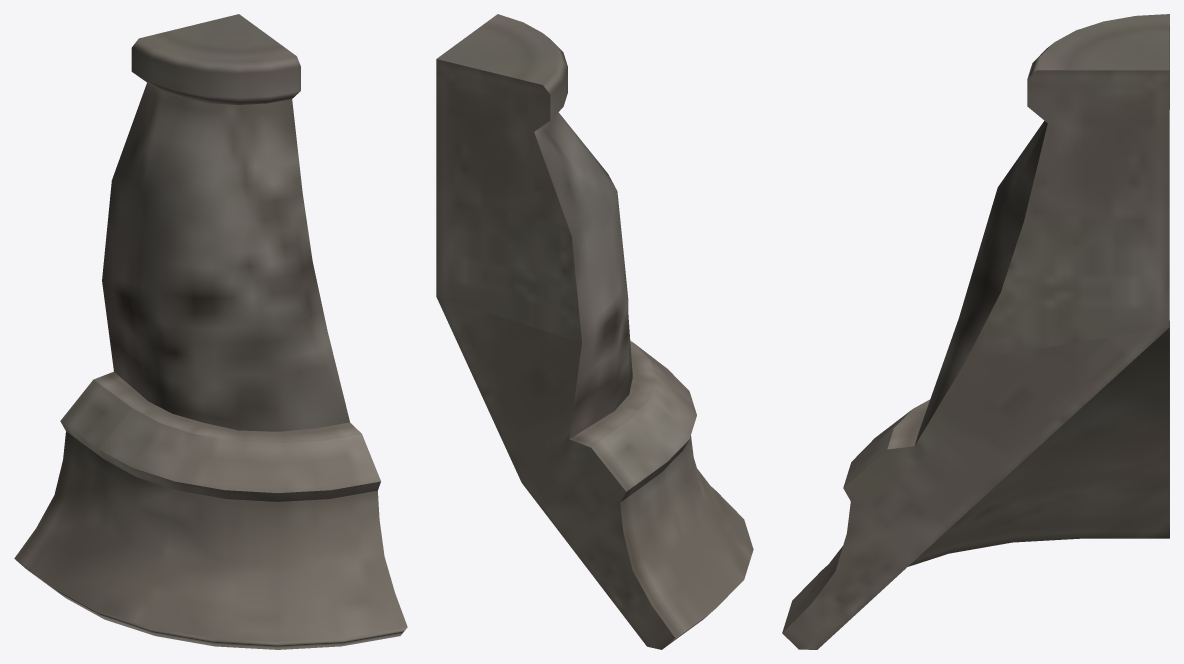
File: roof.crypt.top.line.end.left.glb
The picture shows the model from 3 angles, left to right: view 1: azimuth 30°, elevation 25°; view 2: azimuth 150°, elevation 25°; view 3: azimuth 270°, elevation 25°; orthographic projection. The views are drawn at different scales.
Visible parts, largest first — view 1: model; view 2: model; view 3: model.
Part boxes in pixels (bbox=[...]): model: bbox=[14, 14, 407, 649]; model: bbox=[436, 14, 753, 649]; model: bbox=[782, 14, 1169, 649].
Bounding box in the file's own units: 0.2297 × 0.4923 × 0.2984.
1 material, 1 textured.
